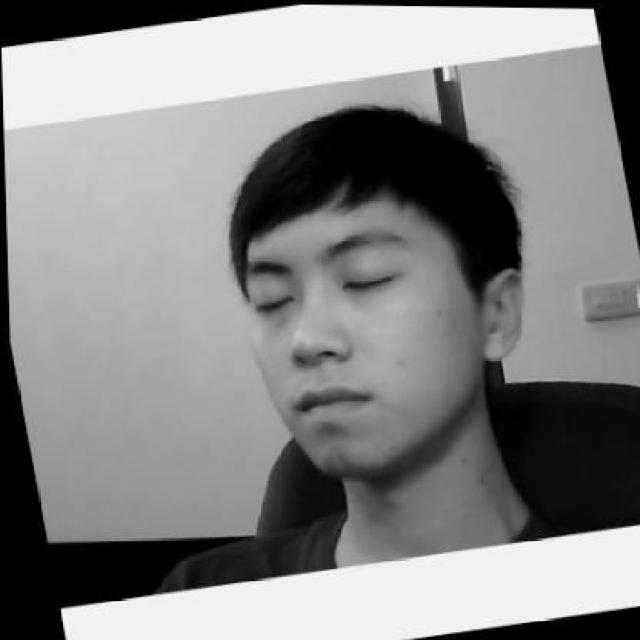inattentif: (206, 78, 552, 493)
